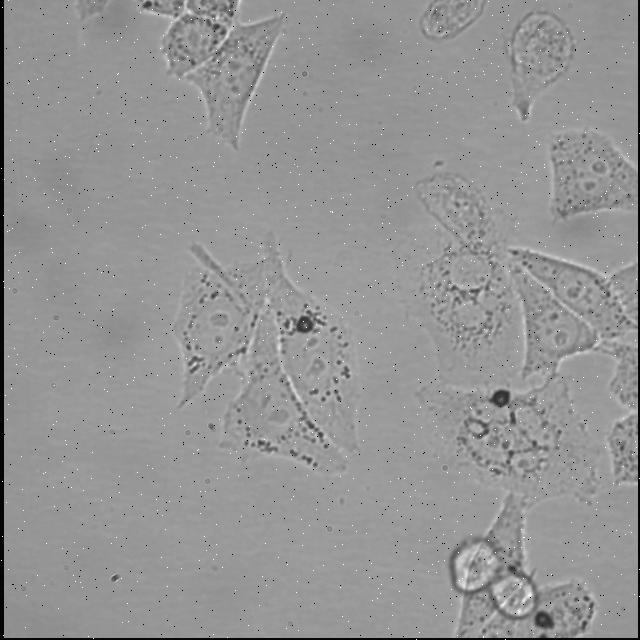microbeads: (292, 310, 318, 336), (487, 388, 515, 410)
